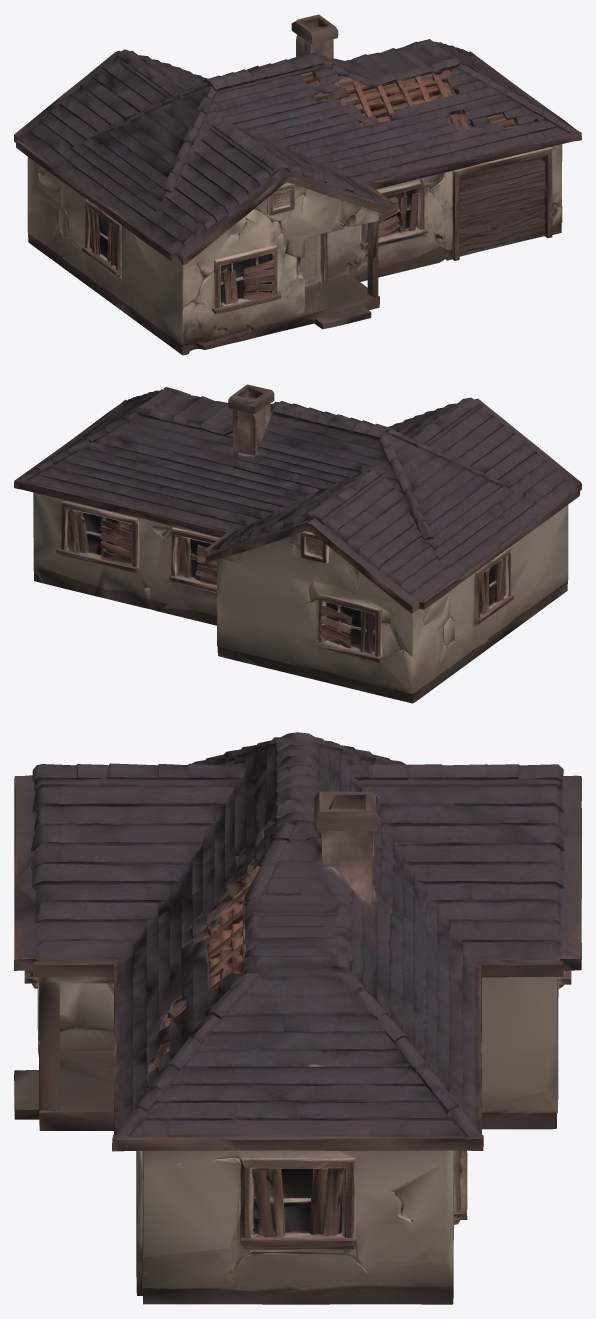
File: house_garage_idle.glb
3 renders of one model, top to bottom at view 1: azimuth 30°, elevation 25°; view 2: azimuth 150°, elevation 25°; view 3: azimuth 270°, elevation 25°, orthographic. The views are drawn at different scales.
Visible parts, largest first — view 1: tripo_node_0e5140ef-4223-4fcb-b1f8-e16a2f4d5132; view 2: tripo_node_0e5140ef-4223-4fcb-b1f8-e16a2f4d5132; view 3: tripo_node_0e5140ef-4223-4fcb-b1f8-e16a2f4d5132.
Part boxes in pixels (bbox=[...]): tripo_node_0e5140ef-4223-4fcb-b1f8-e16a2f4d5132: bbox=[14, 14, 581, 355]; tripo_node_0e5140ef-4223-4fcb-b1f8-e16a2f4d5132: bbox=[14, 384, 581, 703]; tripo_node_0e5140ef-4223-4fcb-b1f8-e16a2f4d5132: bbox=[14, 732, 581, 1304].
Size of the model in its own units: 11.99 by 5.59 by 8.14.
1 material, 1 textured.
